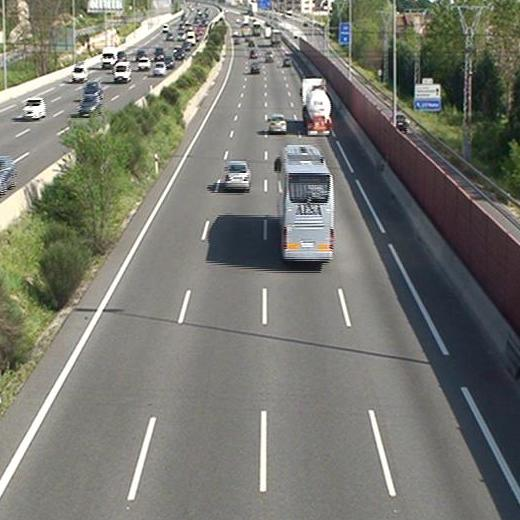bus: (280, 145, 335, 262)
car: (224, 161, 250, 190), (268, 115, 287, 132), (250, 61, 262, 74), (283, 56, 292, 66)
tank-truck: (300, 77, 332, 135)
